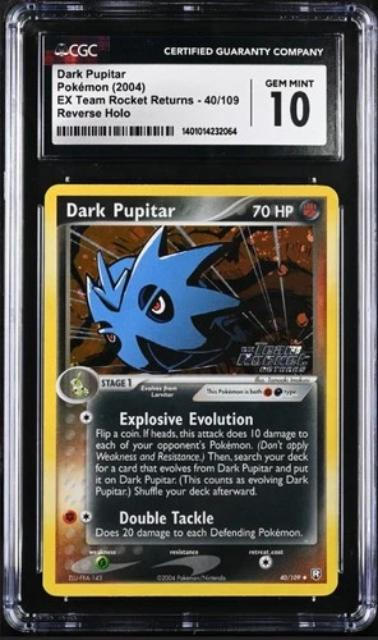Card: (37, 179, 344, 602)
Name: (62, 199, 182, 225)
